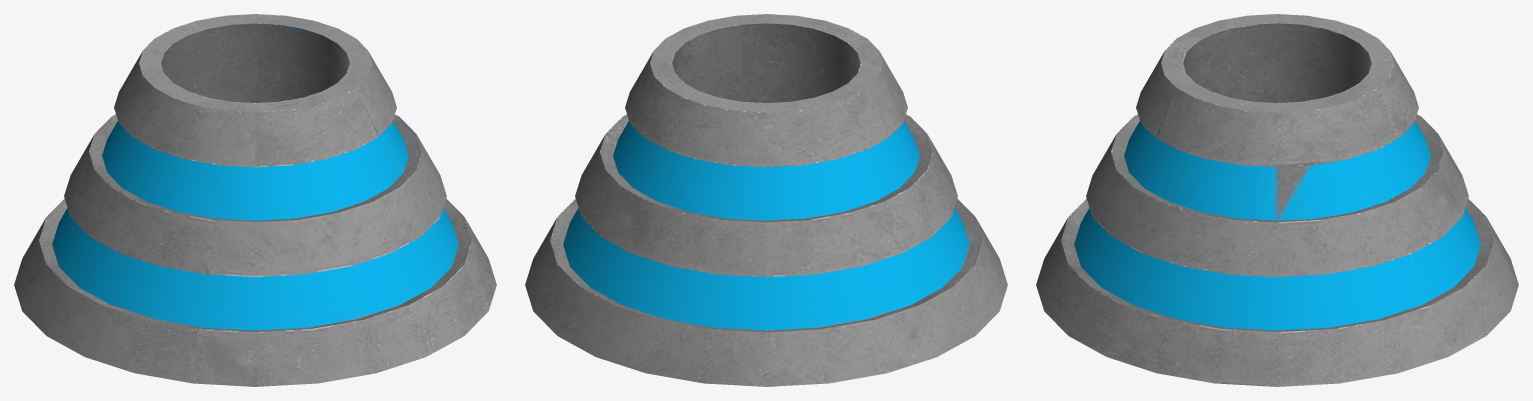
The model's file is Wall_Emitter.fbx.
3 views of the same model, side by side, from view 1: azimuth 30°, elevation 25°; view 2: azimuth 150°, elevation 25°; view 3: azimuth 270°, elevation 25° (orthographic).
Parts seen in each view (by area): view 1: Cone001; view 2: Cone001; view 3: Cone001.
Boxes of the visible parts, x1=… form: Cone001: x1=14, y1=14, x2=496, y2=386; Cone001: x1=525, y1=14, x2=1007, y2=386; Cone001: x1=1036, y1=14, x2=1518, y2=386.
Bounding box in the file's own units: 94.97 × 48.11 × 94.97.
1 material, 1 textured.
